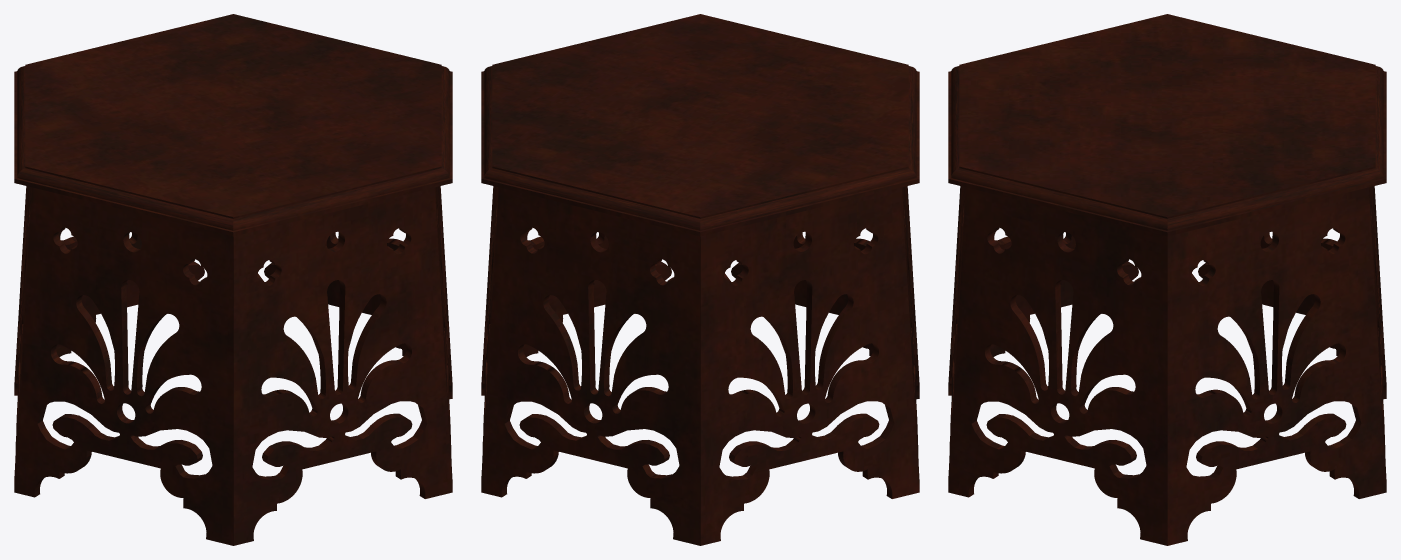
File: prop_chair_ornate.fbx
3 views of the same model, side by side, from view 1: azimuth 30°, elevation 25°; view 2: azimuth 150°, elevation 25°; view 3: azimuth 270°, elevation 25° (orthographic).
Visible parts, largest first — view 1: Group1; view 2: Group1; view 3: Group1.
Part boxes in pixels (bbox=[...]): Group1: bbox=[14, 14, 452, 545]; Group1: bbox=[481, 14, 919, 545]; Group1: bbox=[948, 14, 1386, 545].
Size of the model in its own units: 0.4733 by 0.3341 by 0.4099.
